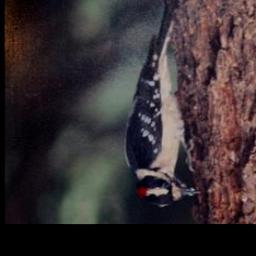Woodpecker: (121, 0, 202, 211)
